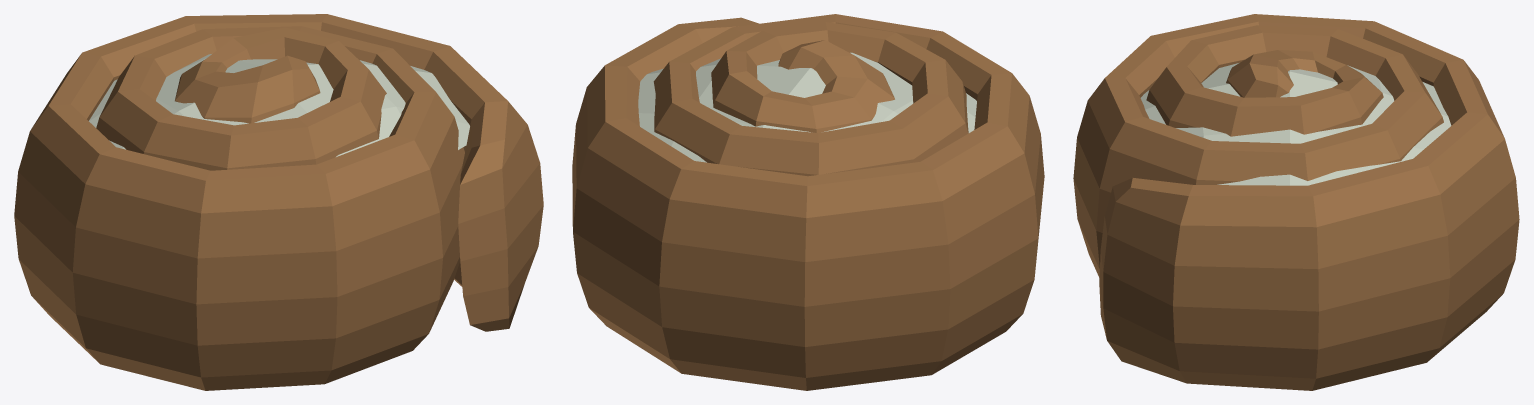
File: cinni-roll.fbx
The picture shows the model from 3 angles, left to right: view 1: azimuth 30°, elevation 25°; view 2: azimuth 150°, elevation 25°; view 3: azimuth 270°, elevation 25°; orthographic projection. The views are drawn at different scales.
Parts seen in each view (by area): view 1: cinni-roll; view 2: cinni-roll; view 3: cinni-roll.
Part boxes in pixels (bbox=[...]): cinni-roll: bbox=[14, 14, 543, 390]; cinni-roll: bbox=[572, 14, 1044, 390]; cinni-roll: bbox=[1073, 14, 1519, 390].
Size of the model in its own units: 33.73 by 18.77 by 31.48.
